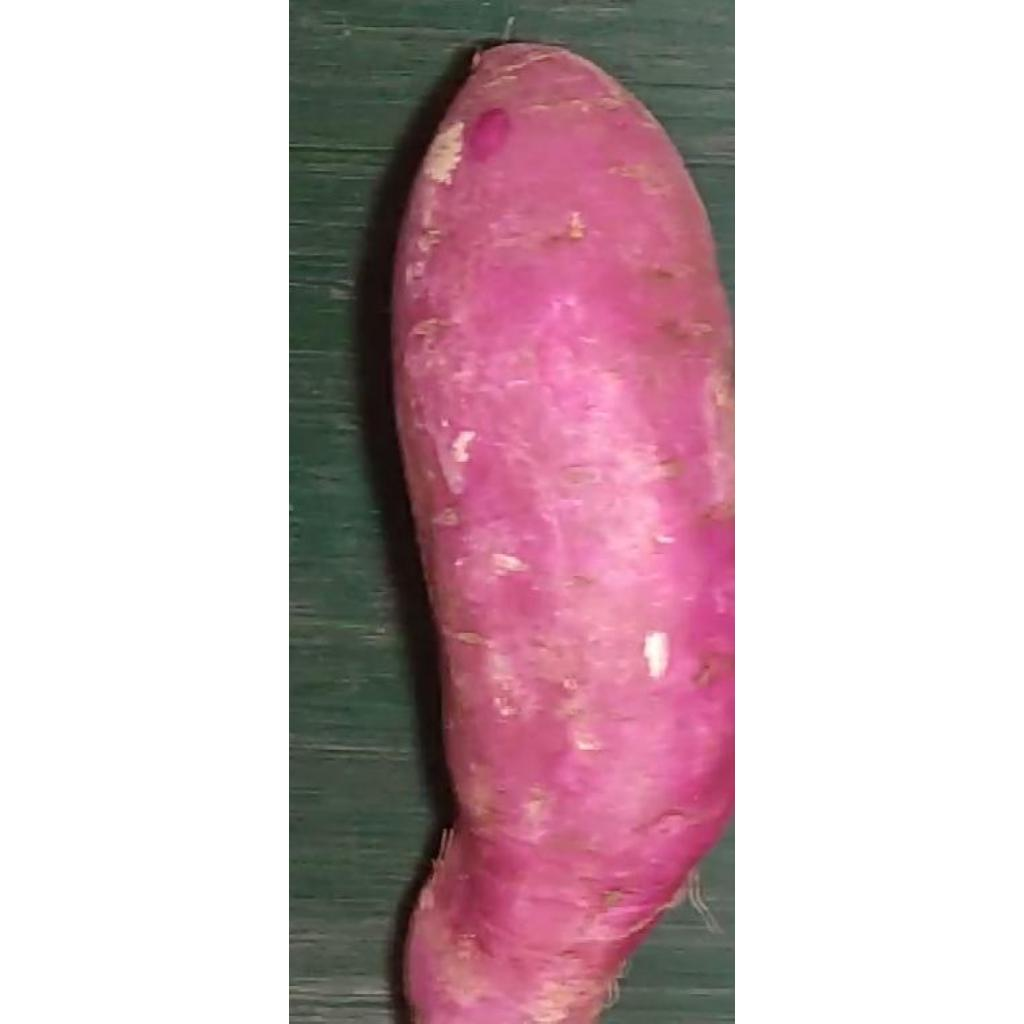Sweet Potato: (387, 39, 736, 1024)
